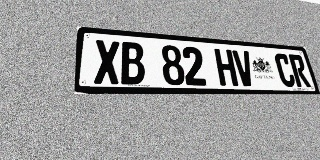2: (182, 46, 206, 86)
8: (160, 44, 186, 85)
B: (120, 41, 146, 85)
C: (273, 53, 297, 87)
H: (214, 49, 238, 86)
R: (288, 54, 311, 87)
V: (232, 50, 256, 86)
X: (94, 40, 120, 84)
